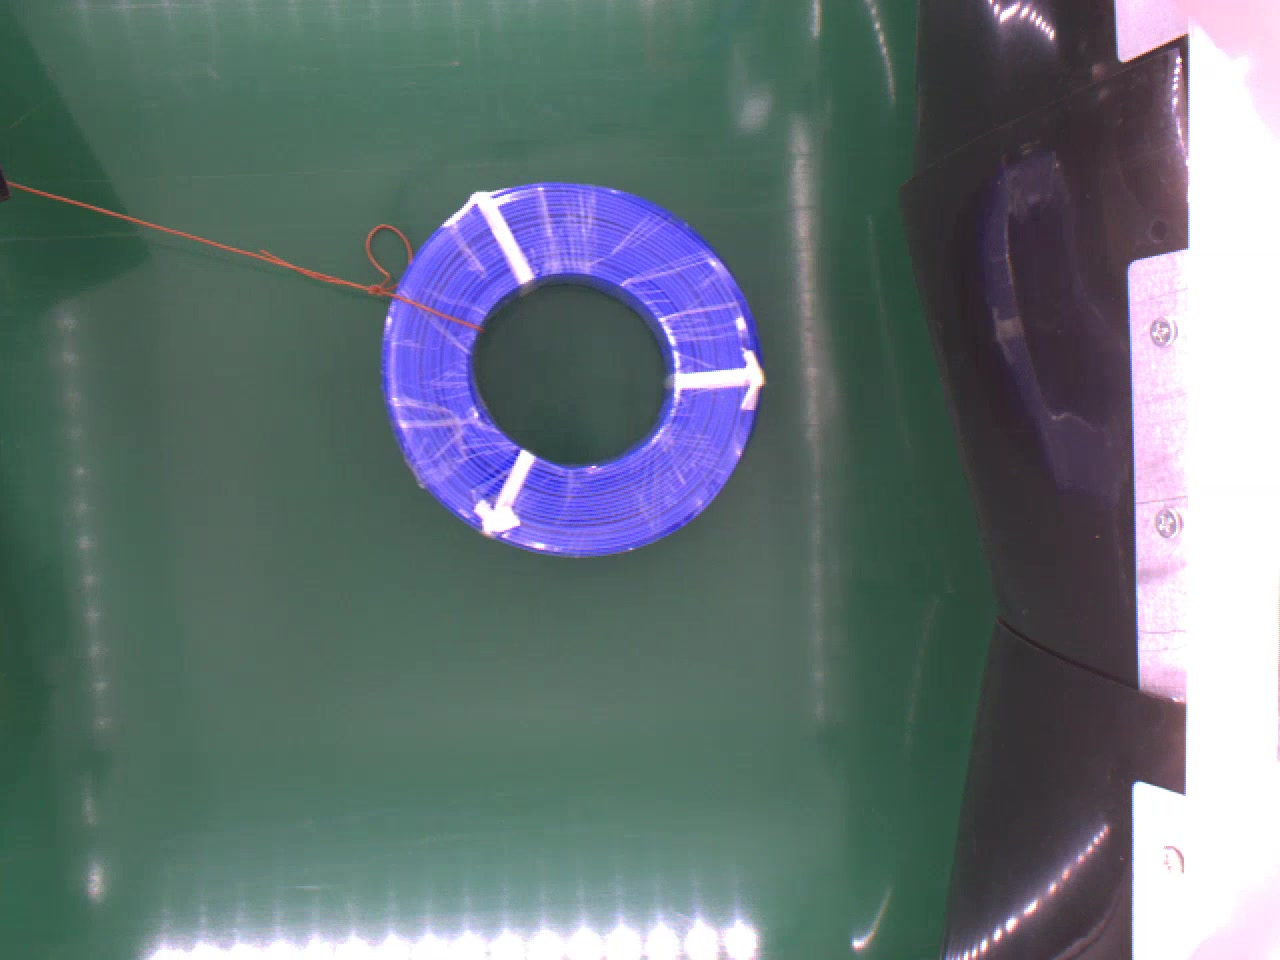blue: (379, 177, 764, 556)
